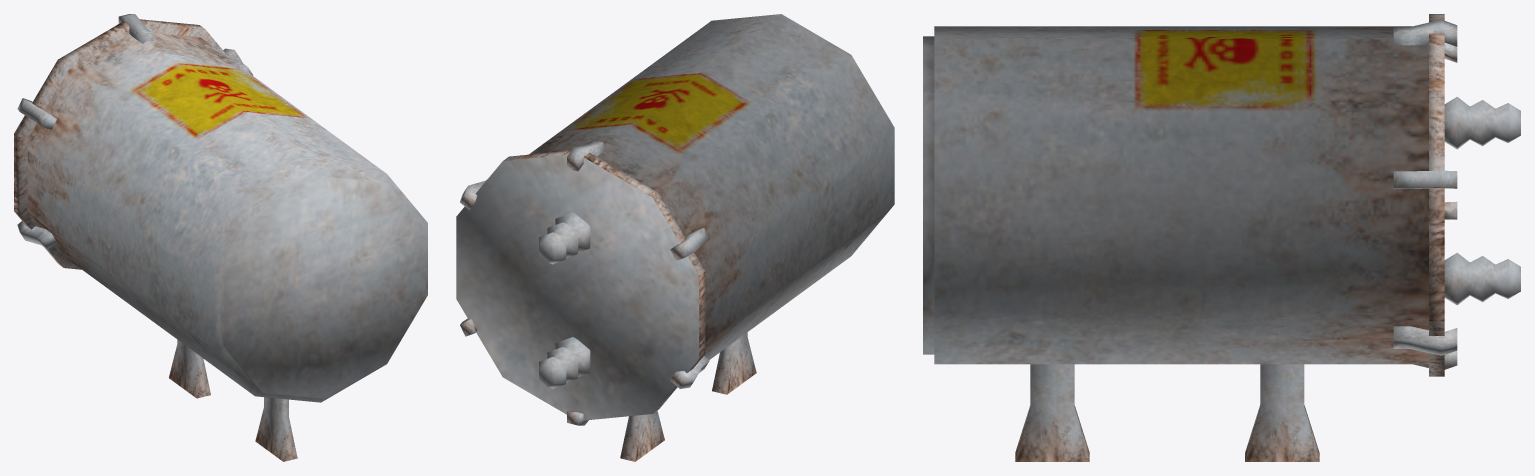
The picture shows the model from 3 angles, left to right: view 1: azimuth 30°, elevation 25°; view 2: azimuth 150°, elevation 25°; view 3: azimuth 270°, elevation 25°; orthographic projection. The views are drawn at different scales.
Visible parts, largest first — view 1: metal_transfo.jpg__; view 2: metal_transfo.jpg__; view 3: metal_transfo.jpg__.
Boxes of the visible parts, x1,y1,x2,y2 form: metal_transfo.jpg__: [14, 14, 427, 461]; metal_transfo.jpg__: [456, 14, 894, 461]; metal_transfo.jpg__: [923, 14, 1520, 461].
Bounding box in the file's own units: 1.39 × 1.89 × 2.36.
1 material, 1 textured.
